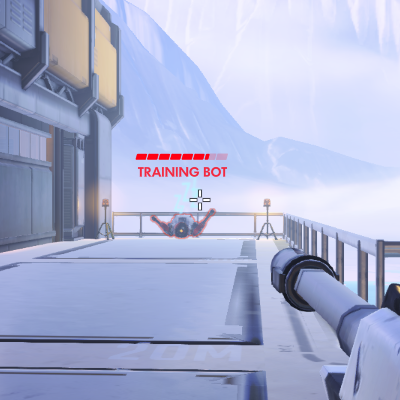hpbar: (135, 153, 228, 160)
